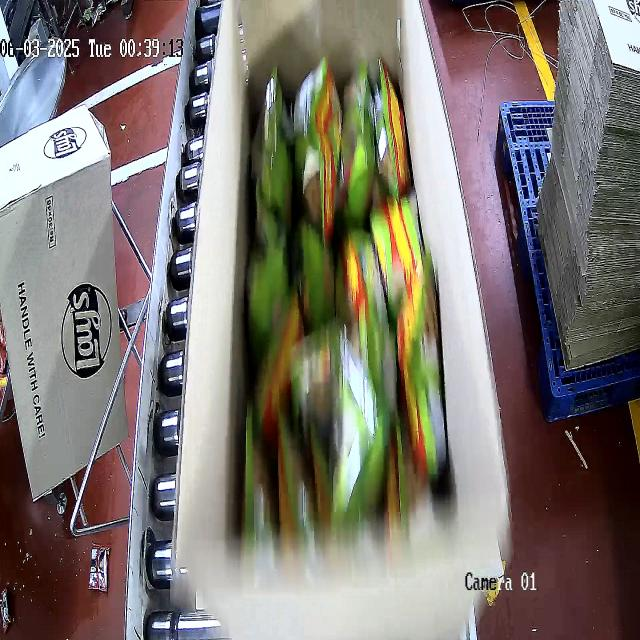YOGURT_HERB: (245, 52, 449, 580)
